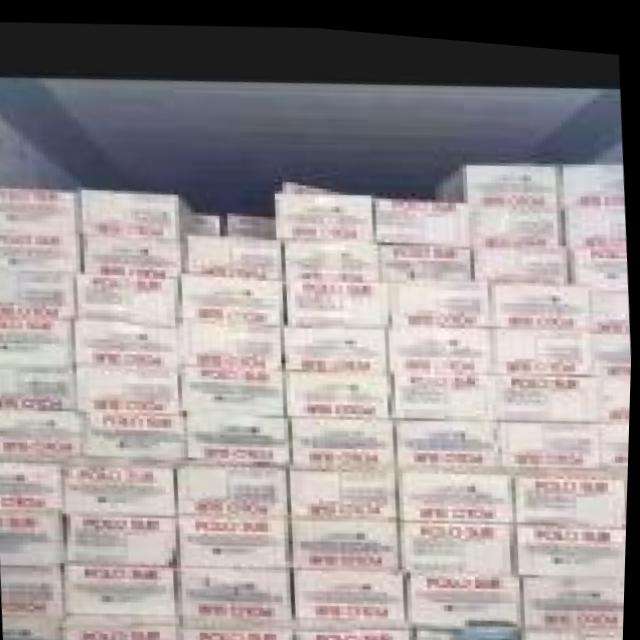box: (295, 561, 412, 622), (180, 561, 295, 622), (62, 558, 182, 616), (399, 512, 520, 567), (405, 564, 526, 619), (396, 459, 516, 514), (513, 459, 630, 514), (286, 509, 401, 564), (67, 459, 178, 514), (394, 409, 509, 462), (275, 173, 374, 234), (516, 514, 629, 567), (178, 459, 290, 512), (288, 459, 399, 512), (503, 407, 609, 462), (76, 269, 183, 322), (72, 407, 187, 456), (178, 512, 293, 561), (185, 409, 296, 459), (292, 407, 396, 459), (432, 156, 557, 199), (561, 199, 629, 278), (181, 363, 290, 412), (177, 272, 289, 319), (392, 316, 497, 366), (69, 514, 180, 561), (283, 363, 396, 409), (384, 272, 494, 319), (494, 316, 597, 366), (74, 319, 183, 366), (524, 567, 628, 616), (177, 319, 285, 366), (283, 272, 390, 319), (80, 188, 192, 232), (390, 366, 503, 409), (283, 319, 392, 363), (372, 191, 475, 237), (74, 366, 183, 409), (277, 232, 384, 275), (488, 272, 591, 316), (501, 366, 603, 409), (0, 407, 83, 459), (78, 232, 185, 272), (0, 269, 78, 319), (0, 185, 82, 232), (469, 199, 563, 240), (1, 509, 71, 564), (187, 232, 283, 272), (378, 237, 475, 275), (0, 319, 78, 366), (0, 459, 67, 509), (3, 561, 63, 616), (0, 232, 82, 272), (0, 366, 74, 409), (62, 614, 184, 640), (559, 153, 626, 199), (475, 240, 569, 272), (295, 619, 417, 640), (412, 619, 529, 640), (524, 617, 627, 640), (591, 319, 633, 371), (186, 622, 296, 640), (591, 275, 631, 322), (603, 407, 632, 458), (6, 616, 67, 640), (597, 369, 632, 409), (228, 211, 273, 232), (185, 208, 221, 229)
